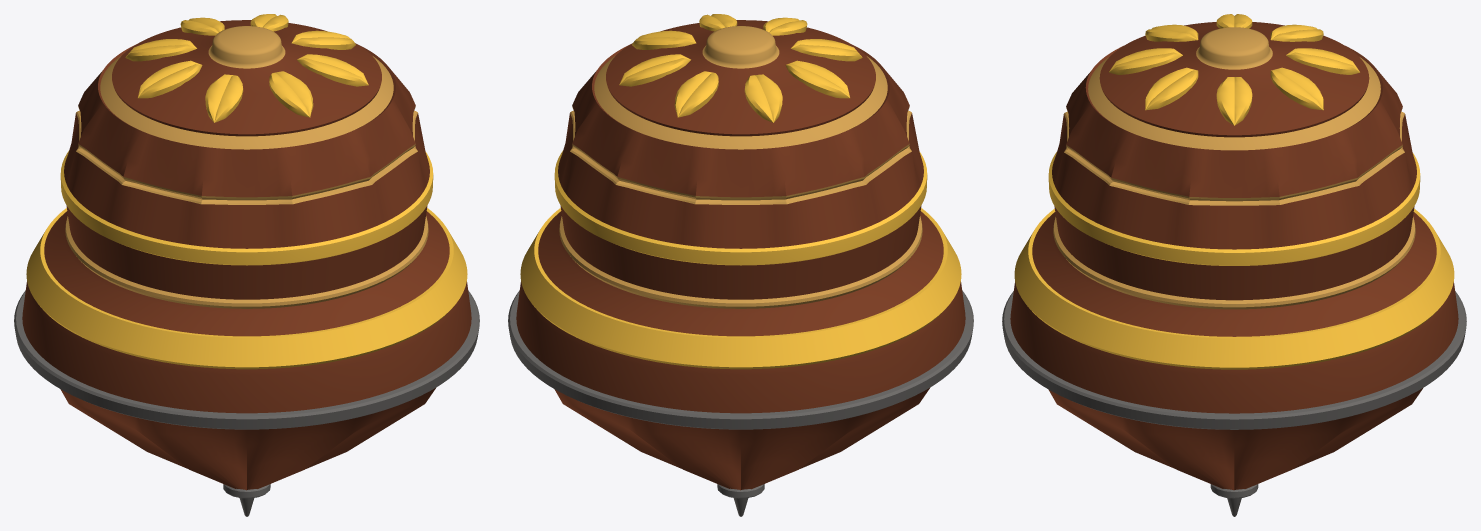
Rendered from gasing_jantung.glb.
The picture shows the model from 3 angles, left to right: view 1: azimuth 30°, elevation 25°; view 2: azimuth 150°, elevation 25°; view 3: azimuth 270°, elevation 25°; orthographic projection.
Parts seen in each view (by area): view 1: Gasing_jantung; view 2: Gasing_jantung; view 3: Gasing_jantung.
Boxes of the visible parts, x1,y1,x2,y2 form: Gasing_jantung: (14, 14, 479, 516); Gasing_jantung: (508, 14, 973, 516); Gasing_jantung: (1002, 14, 1466, 516).
Bounding box in the file's own units: 0.88 × 1 × 0.88.
